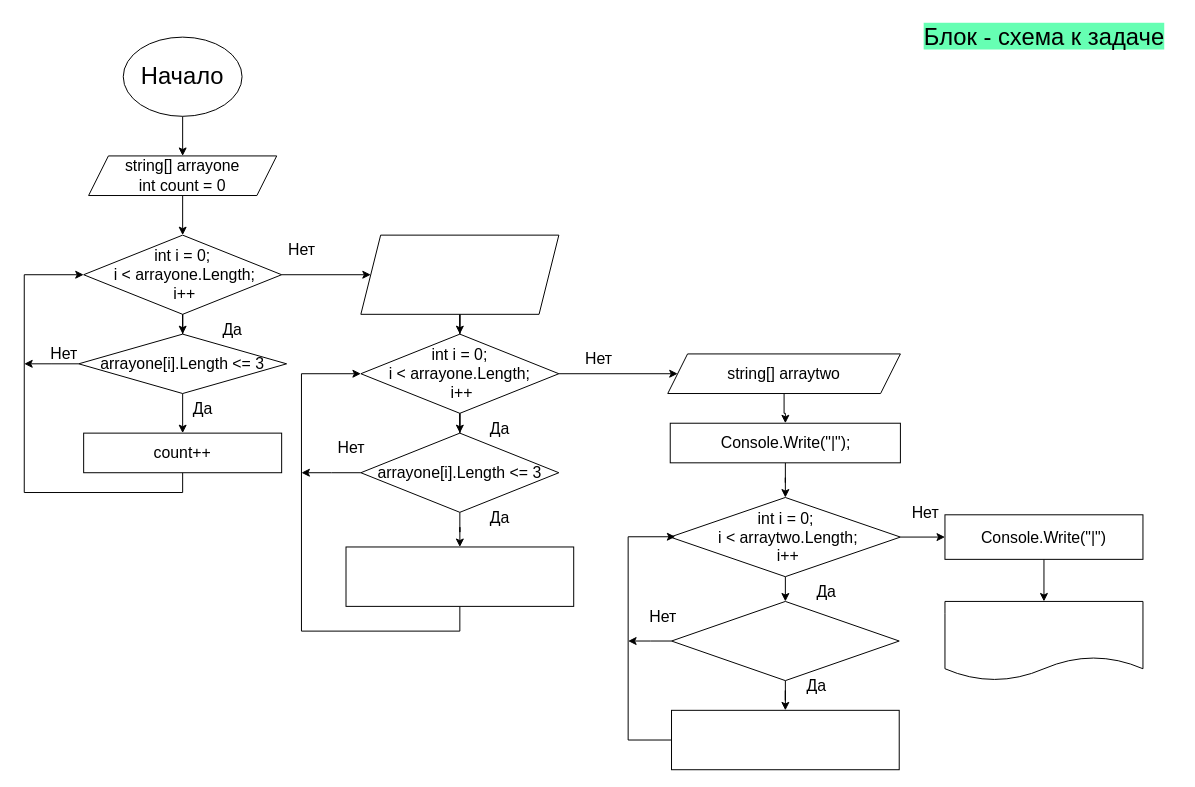
This 1195x787 diagram has some shape labels left out. Here are the shapes that lost their labels. From the top down, the box of each, then its label:
(360, 234, 559, 314): string[] arrayone, string[] arraytwoint count = 0
(345, 546, 574, 606): arraytwo[count] = arrayone[i]; count++;
(671, 600, 899, 681): i ! = 0
(944, 600, 1143, 681): Конец
(671, 709, 899, 770): Console.Write($" {arraytwo[i]} ")
